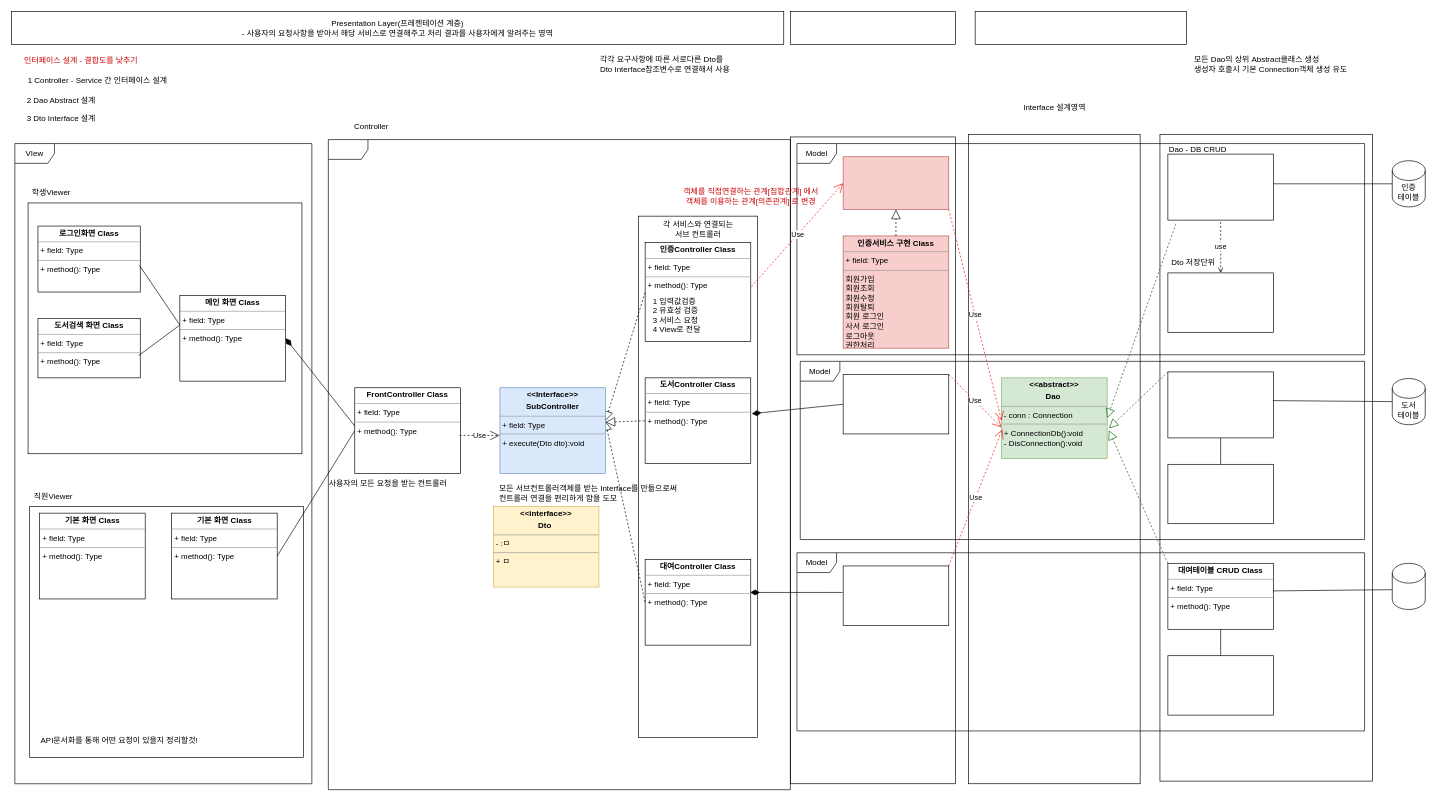
Some shapes in this 1437 by 801 pixel diagram are drawn without their labels. The shapes that lost their labels are listed below. From the top down, each one's centre as x and y in pixels, then its label:
At pixel 872 28: "Business Layer".
At pixel 1080 28: "Persistance Layer".
At pixel 895 183: "<<Interface>> 인증서비스 + field: Type".
At pixel 1220 186: "인증테이블 CRUD Class + field: Type + method(): Type".
At pixel 1220 302: "인증정보저장 Class + field: Type + method(): Type".
At pixel 895 404: "도서서비스 Class + field: Type + method(): Type".
At pixel 1220 404: "도서테이블 CRUD Class + field: Type + method(): Type".
At pixel 1220 494: "도서정보저장 Class + field: Type + method(): Type".
At pixel 895 595: "대여서비스 Class + field: Type + method(): Type".
At pixel 1408 586: "대여 테이블".
At pixel 1220 685: "대여정보저장 Class + field: Type + method(): Type".
